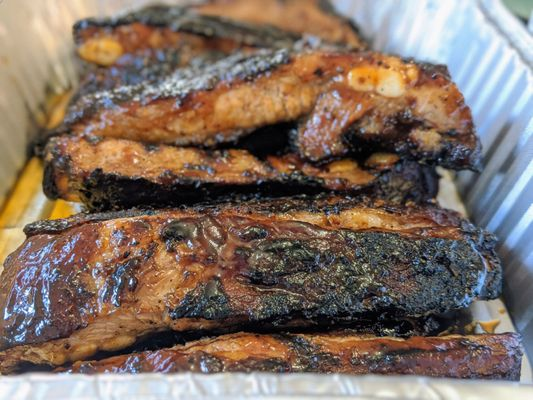sandwich: (2, 9, 521, 372)
